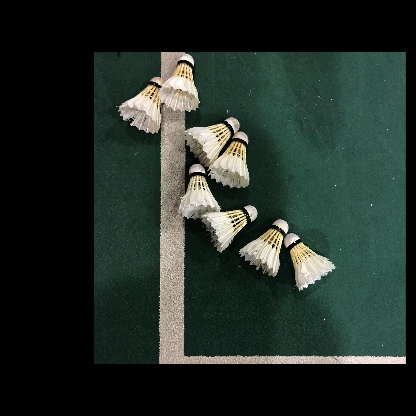ball_single: (284, 233, 336, 291), (239, 219, 288, 277), (184, 117, 239, 167), (201, 205, 258, 252), (118, 77, 164, 134), (158, 54, 200, 112), (179, 164, 221, 220), (209, 131, 249, 188)
